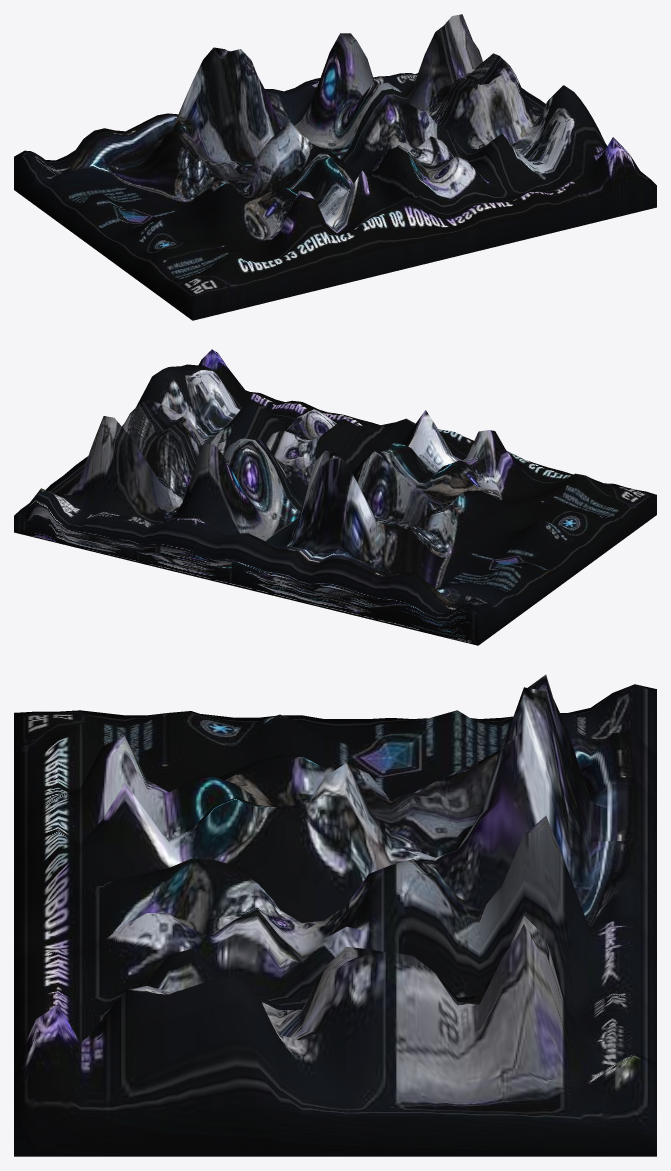
File: CAREER_13_Tool_06_Robot.glb
3 views of the same model, one above another, from view 1: azimuth 30°, elevation 25°; view 2: azimuth 150°, elevation 25°; view 3: azimuth 270°, elevation 25° (orthographic). The views are drawn at different scales.
Visible parts, largest first — view 1: CAREER_13_Tool_06_Robot; view 2: CAREER_13_Tool_06_Robot; view 3: CAREER_13_Tool_06_Robot.
Part boxes in pixels (bbox=[...]): CAREER_13_Tool_06_Robot: bbox=[14, 14, 656, 320]; CAREER_13_Tool_06_Robot: bbox=[14, 349, 656, 645]; CAREER_13_Tool_06_Robot: bbox=[14, 674, 656, 1156].
Bounding box in the file's own units: 2 × 0.51 × 1.33.
Materials: 1 (1 with a texture image).
